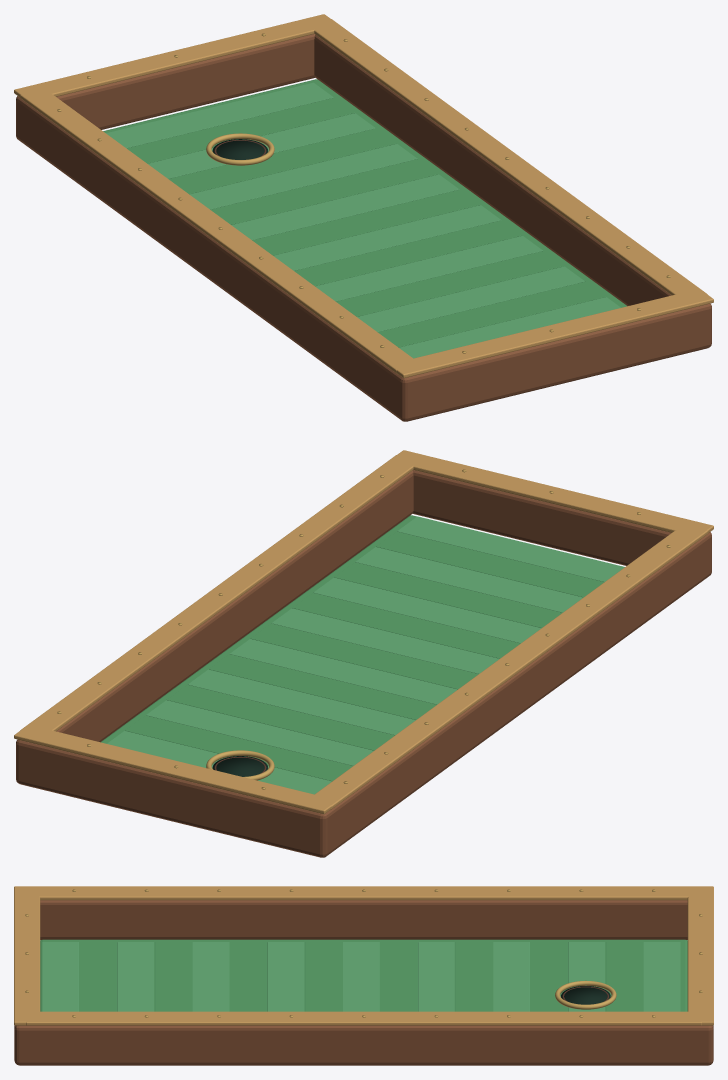
The model's file is PP_C1_01_Course.fbx.
3 renders of one model, top to bottom at view 1: azimuth 30°, elevation 25°; view 2: azimuth 150°, elevation 25°; view 3: azimuth 270°, elevation 25°, orthographic. The views are drawn at different scales.
Parts seen in each view (by area): view 1: Wood_Rail_L, Wood_Rail_R, Wood_Rail_S, Wood_Rail_N, Wood_TopTrim_L, Wood_TopTrim_R, Turf_CourseTop, Wood_TopTrim_S, Wood_TopTrim_N, Turf_SubtleStripe_11, Turf_SubtleStripe_07, Turf_SubtleStripe_10 (+14 smaller); view 2: Wood_Rail_L, Wood_Rail_R, Wood_Rail_N, Wood_Rail_S, Wood_TopTrim_L, Wood_TopTrim_R, Wood_TopTrim_N, Wood_TopTrim_S, Turf_CourseTop, Turf_SubtleStripe_03, Turf_SubtleStripe_05, Turf_SubtleStripe_09 (+14 smaller); view 3: Wood_Rail_R, Wood_Rail_L, Wood_TopTrim_L, Wood_TopTrim_R, Turf_CourseTop, Wood_TopTrim_N, Wood_TopTrim_S, Turf_SubtleStripe_04, Turf_SubtleStripe_06, Turf_SubtleStripe_09, Turf_SubtleStripe_11, Turf_SubtleStripe_16 (+16 smaller).
Part boxes in pixels (bbox=[...]): Wood_Rail_L: bbox=[22, 101, 396, 415]; Wood_Rail_R: bbox=[314, 34, 671, 306]; Wood_Rail_S: bbox=[392, 303, 711, 421]; Wood_Rail_N: bbox=[16, 34, 314, 142]; Wood_TopTrim_L: bbox=[20, 89, 419, 373]; Wood_TopTrim_R: bbox=[308, 19, 707, 299]; Turf_CourseTop: bbox=[103, 79, 626, 347]; Wood_TopTrim_S: bbox=[391, 289, 713, 378]; Wood_TopTrim_N: bbox=[14, 14, 335, 98]; Turf_SubtleStripe_11: bbox=[211, 159, 438, 224]; Turf_SubtleStripe_07: bbox=[294, 220, 521, 285]; Turf_SubtleStripe_10: bbox=[231, 174, 459, 240]; Wood_Rail_L: bbox=[331, 537, 705, 851]; Wood_Rail_R: bbox=[56, 470, 413, 742]; Wood_Rail_N: bbox=[16, 739, 335, 857]; Wood_Rail_S: bbox=[413, 470, 711, 580]; Wood_TopTrim_L: bbox=[308, 525, 707, 809]; Wood_TopTrim_R: bbox=[20, 455, 419, 735]; Wood_TopTrim_N: bbox=[14, 725, 336, 814]; Wood_TopTrim_S: bbox=[394, 450, 713, 534]; Turf_CourseTop: bbox=[101, 515, 603, 781]; Turf_SubtleStripe_03: bbox=[334, 562, 561, 627]; Turf_SubtleStripe_05: bbox=[292, 593, 519, 658]; Turf_SubtleStripe_09: bbox=[209, 654, 436, 719]; Wood_Rail_R: bbox=[29, 1025, 698, 1065]; Wood_Rail_L: bbox=[40, 900, 687, 939]; Wood_TopTrim_L: bbox=[27, 886, 700, 900]; Wood_TopTrim_R: bbox=[26, 1011, 701, 1025]; Turf_CourseTop: bbox=[40, 939, 687, 1011]; Wood_TopTrim_N: bbox=[687, 886, 713, 1025]; Wood_TopTrim_S: bbox=[14, 886, 40, 1025]; Turf_SubtleStripe_04: bbox=[192, 942, 229, 1011]; Turf_SubtleStripe_06: bbox=[267, 942, 304, 1011]; Turf_SubtleStripe_09: bbox=[380, 942, 417, 1011]; Turf_SubtleStripe_11: bbox=[455, 942, 492, 1011]; Turf_SubtleStripe_16: bbox=[643, 942, 680, 1011].
Bounding box in the file's own units: 357 × 66.35 × 773.
